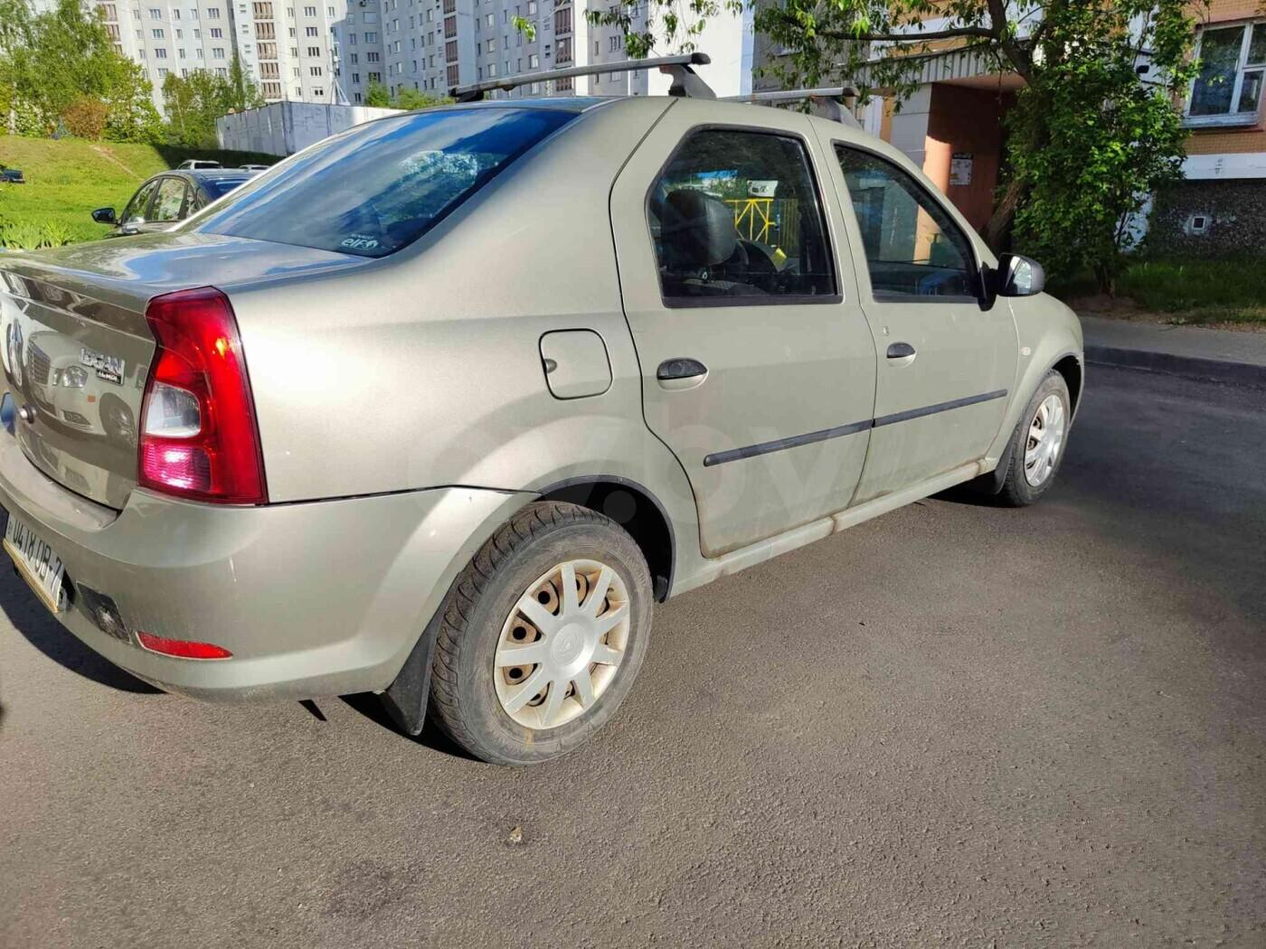Logan_2008-2015: (0, 94, 1098, 764)
